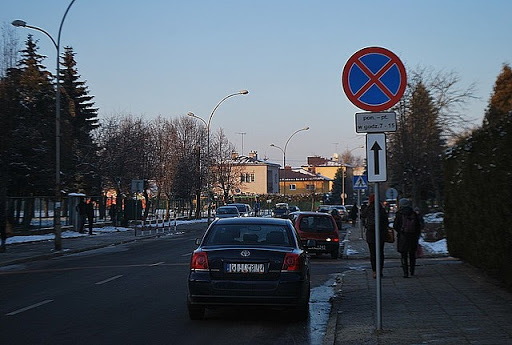no_stopping_sign: (342, 47, 408, 112)
